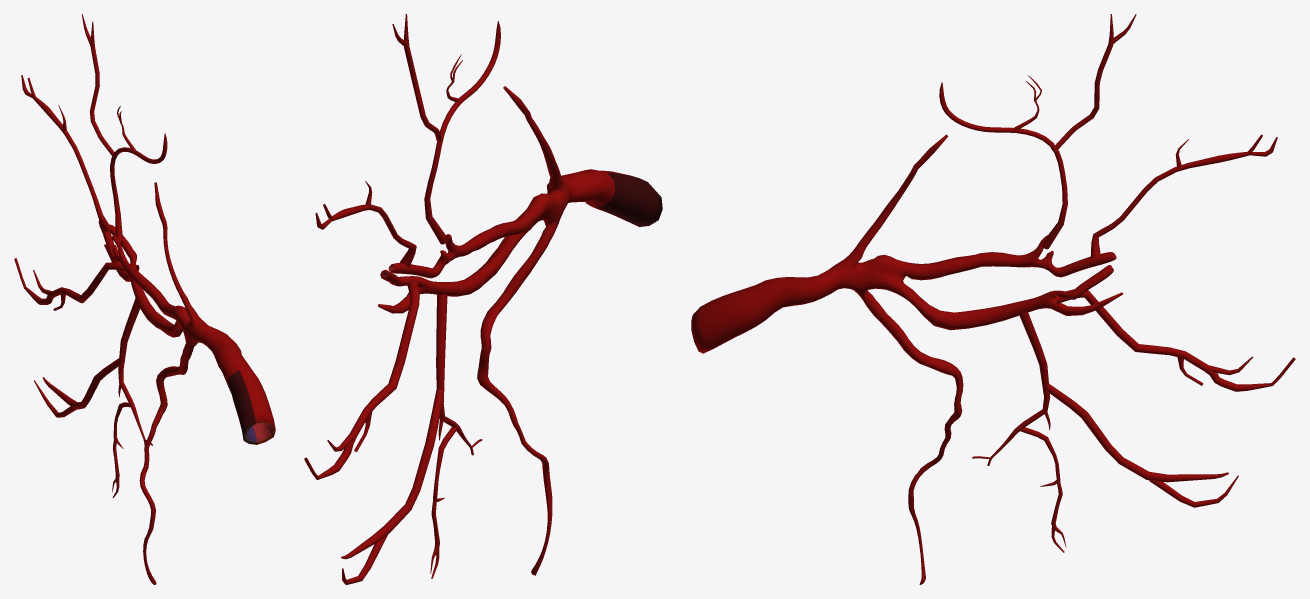
Rendered from Arteria_Corte.glb.
The picture shows the model from 3 angles, left to right: view 1: azimuth 30°, elevation 25°; view 2: azimuth 150°, elevation 25°; view 3: azimuth 270°, elevation 25°; orthographic projection. The views are drawn at different scales.
Parts seen in each view (by area): view 1: ARTERIA_CORTE; view 2: ARTERIA_CORTE; view 3: ARTERIA_CORTE.
Boxes of the visible parts, x1,y1,x2,y2 form: ARTERIA_CORTE: (14,14,275,584); ARTERIA_CORTE: (304,14,662,584); ARTERIA_CORTE: (691,14,1295,584).
Size of the model in its own units: 0.2953 by 2.35 by 2.21.
1 material, 1 textured.
